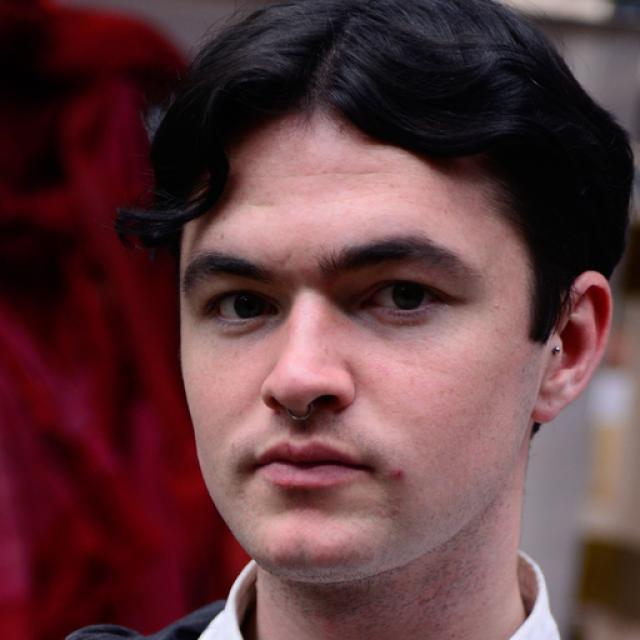neutral: (178, 111, 534, 579)
